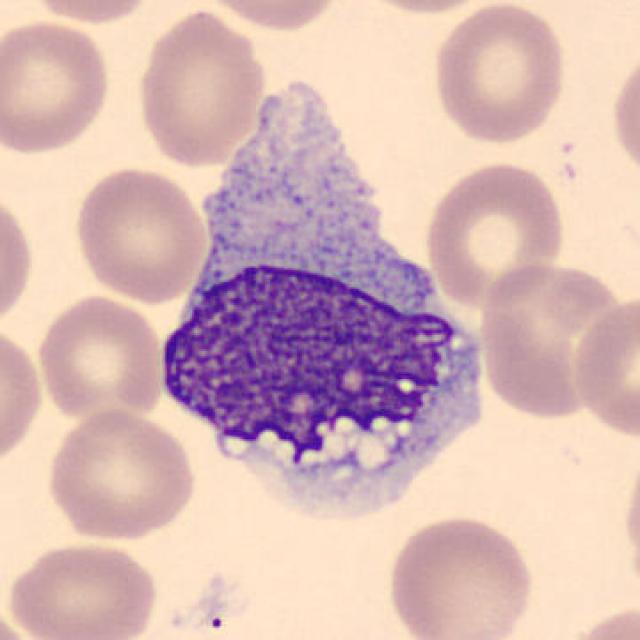monocyte: (173, 80, 508, 527)
rbc: (487, 261, 619, 419), (431, 162, 566, 305), (54, 404, 192, 540), (146, 17, 262, 167), (395, 520, 530, 640), (81, 170, 198, 295), (438, 11, 554, 133), (45, 297, 166, 412), (0, 32, 110, 154), (20, 549, 154, 640), (574, 296, 640, 441), (0, 332, 37, 462), (0, 207, 33, 310), (225, 0, 330, 27), (615, 66, 640, 160), (46, 0, 147, 21), (586, 603, 640, 640), (390, 0, 468, 15), (625, 472, 640, 545)
